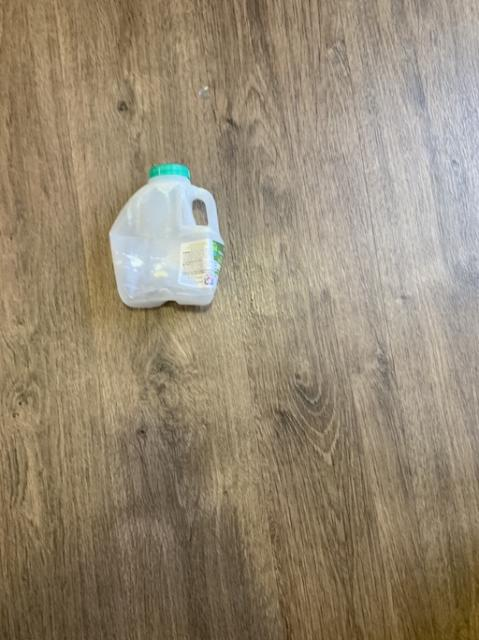plastic: (109, 163, 222, 305)
